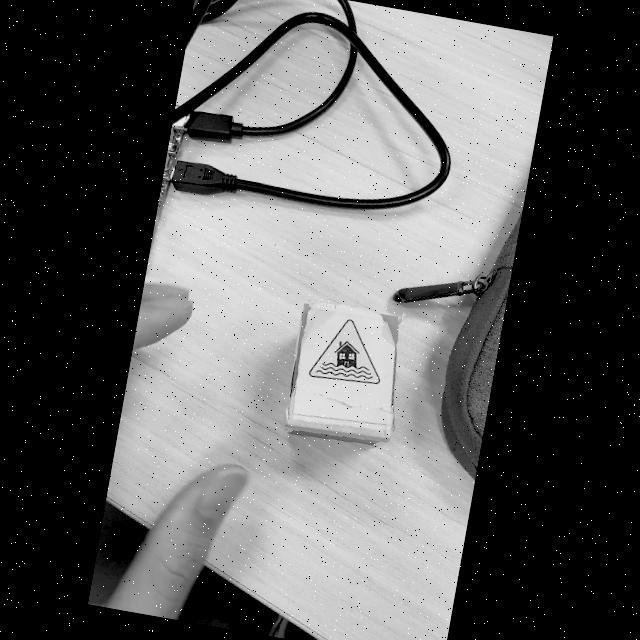Tsunami: (309, 319, 379, 384)
